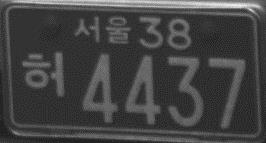3: (166, 54, 206, 125), (137, 15, 163, 50)
4: (80, 51, 119, 124), (123, 52, 161, 126)
7: (206, 55, 248, 130)
8: (166, 17, 192, 51)
서울_O: (73, 14, 132, 46)
허: (20, 49, 67, 99)
